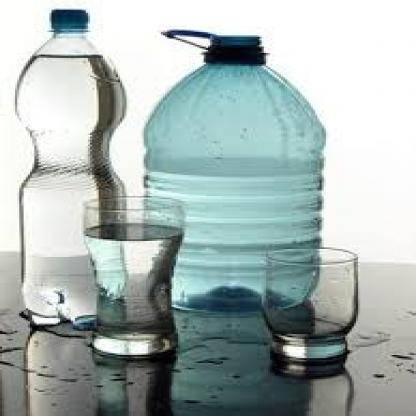Plastic: (148, 22, 326, 209), (17, 4, 129, 186)
